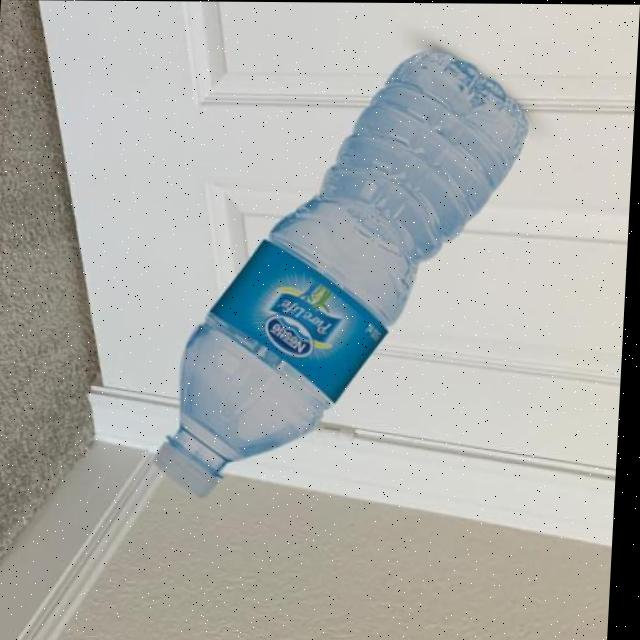bottle: (154, 46, 536, 501)
